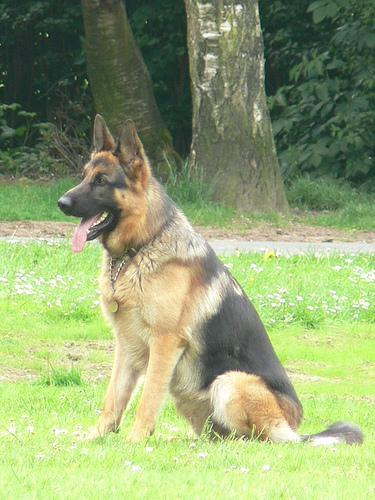German_shepherd: (55, 111, 366, 446)
